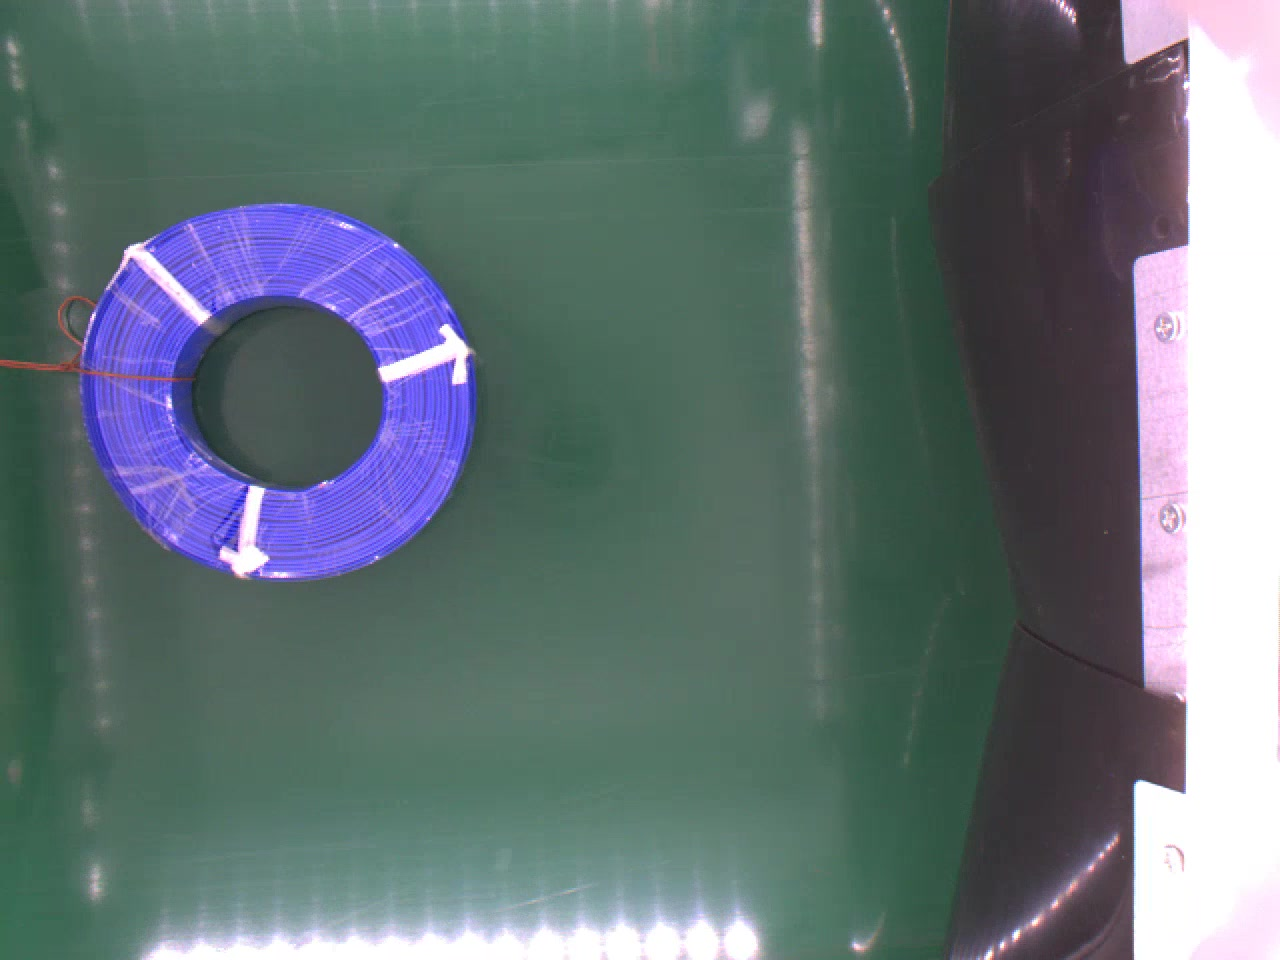blue: (85, 201, 478, 574)
